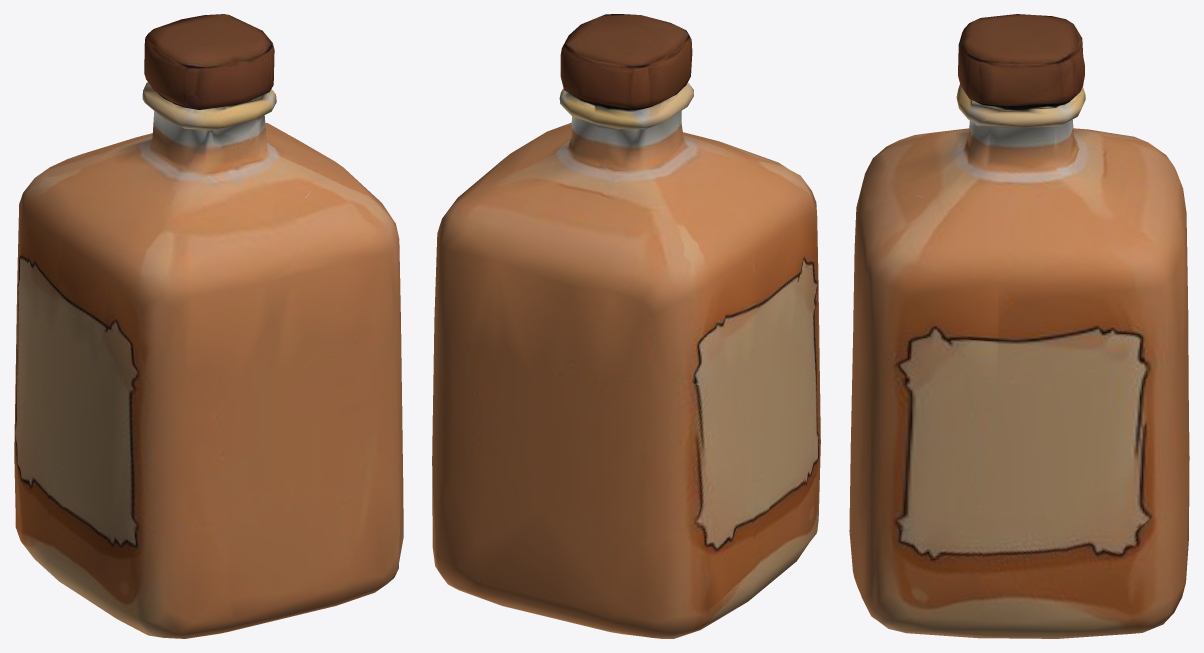
Rendered from 威士忌酒瓶.glb.
The picture shows the model from 3 angles, left to right: view 1: azimuth 30°, elevation 25°; view 2: azimuth 150°, elevation 25°; view 3: azimuth 270°, elevation 25°; orthographic projection. The views are drawn at different scales.
Parts seen in each view (by area): view 1: tripo_node_1b9fefa2-18a2-4740-94da-b35e3ee6fe74; view 2: tripo_node_1b9fefa2-18a2-4740-94da-b35e3ee6fe74; view 3: tripo_node_1b9fefa2-18a2-4740-94da-b35e3ee6fe74.
Part boxes in pixels (left/top/right/bottom): tripo_node_1b9fefa2-18a2-4740-94da-b35e3ee6fe74: left=14, top=14, right=403, bottom=638; tripo_node_1b9fefa2-18a2-4740-94da-b35e3ee6fe74: left=432, top=14, right=820, bottom=638; tripo_node_1b9fefa2-18a2-4740-94da-b35e3ee6fe74: left=849, top=14, right=1189, bottom=638.
Size of the model in its own units: 0.5559 by 0.9996 by 0.5574.
1 material, 1 textured.
